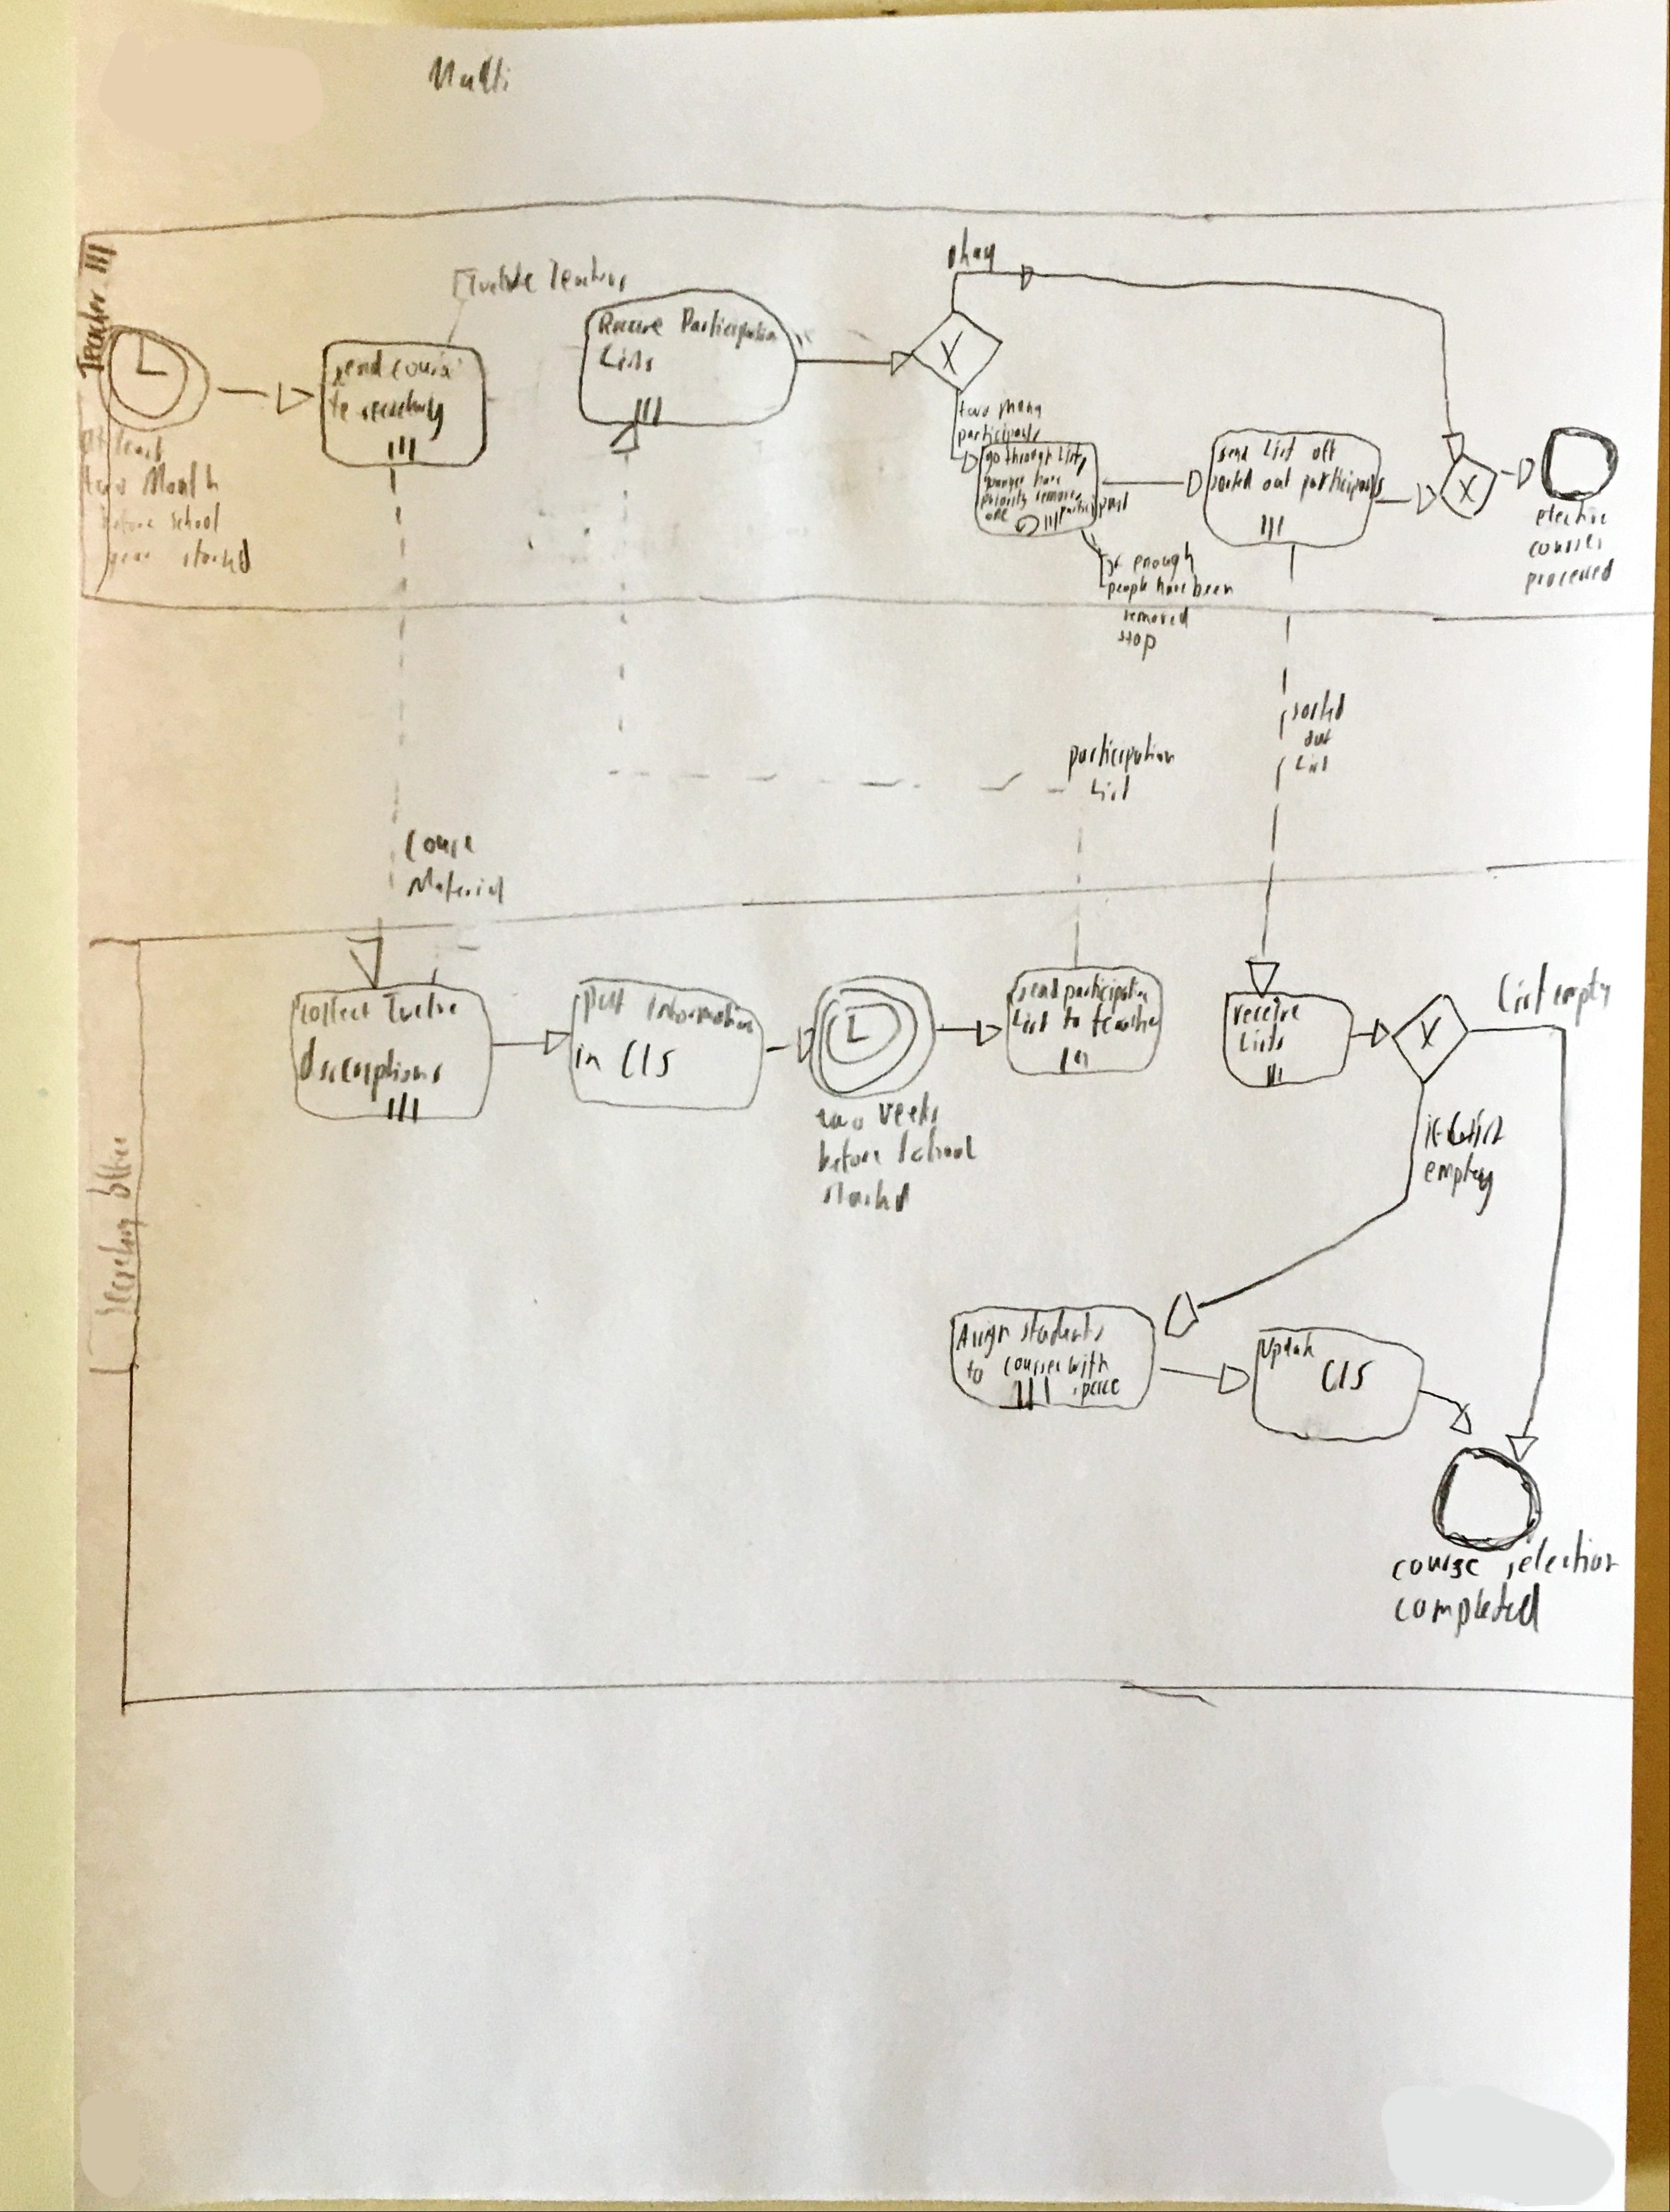Allign: (955, 1323, 1013, 1360)
CIS: (617, 1038, 678, 1081), (1319, 1358, 1374, 1394)
III: (81, 242, 117, 278), (1013, 1377, 1053, 1410), (384, 1091, 420, 1122), (383, 435, 420, 464), (630, 396, 665, 427), (1056, 1045, 1090, 1073), (1256, 513, 1285, 542), (1262, 1062, 1285, 1087), (1042, 513, 1059, 531)
Information: (646, 989, 760, 1022)
List: (1445, 1109, 1505, 1147), (1087, 772, 1131, 804), (1009, 1008, 1051, 1037), (1260, 436, 1300, 462), (1291, 753, 1330, 775)
List,: (1056, 444, 1089, 477)
Lists: (597, 342, 656, 373), (1236, 1023, 1287, 1054)
Material: (405, 865, 507, 905)
Month: (140, 461, 220, 499)
Multi: (425, 53, 512, 95)
Participations: (680, 303, 782, 348)
Receive: (596, 312, 669, 337)
School: (894, 1124, 979, 1165), (165, 503, 220, 533)
Secretary: (90, 1215, 145, 1317)
Teacher: (71, 290, 110, 378)
Teachers: (544, 258, 630, 292)
Twelve: (459, 261, 538, 295)
Update: (1258, 1331, 1315, 1369)
attach: (82, 422, 170, 453)
been: (1190, 573, 1236, 599)
before: (815, 1136, 885, 1175), (96, 506, 155, 535)
but: (1301, 726, 1334, 749)
collect: (297, 994, 373, 1027)
completed: (1392, 1581, 1543, 1639)
course: (1389, 1550, 1482, 1583), (402, 832, 476, 864), (390, 357, 455, 383)
courses: (1525, 533, 1606, 561), (1000, 1356, 1063, 1379)
descriptions: (295, 1035, 443, 1103)
elective: (1532, 500, 1609, 528)
empty: (1421, 1151, 1496, 1218), (1551, 966, 1612, 1027)
enough: (1130, 540, 1196, 578)
go: (981, 450, 1003, 475)
have: (1154, 574, 1189, 597), (1030, 467, 1063, 488)
if: (1421, 1113, 1446, 1151)
in: (571, 1041, 604, 1073)
list: (1494, 960, 1548, 1016)
many: (996, 397, 1044, 422)
off: (1309, 437, 1340, 465)
office: (84, 1131, 134, 1201)
okay: (942, 227, 999, 270)
one: (982, 508, 1009, 523)
out: (1260, 466, 1293, 492)
participants: (1296, 466, 1387, 502), (956, 423, 1042, 444)
participated: (1054, 492, 1137, 525)
participation: (1065, 732, 1178, 782), (1059, 975, 1150, 1011)
people: (1105, 575, 1150, 602)
priority: (977, 491, 1029, 511)
processed: (1517, 568, 1616, 596)
put: (580, 984, 628, 1025)
receive: (1230, 997, 1303, 1026)
remark,: (1032, 489, 1085, 504)
removed: (1118, 606, 1190, 629)
secretary: (358, 388, 446, 441)
selection: (1501, 1531, 1619, 1582)
send: (330, 348, 385, 389), (1014, 976, 1060, 1005), (1215, 444, 1250, 466)
sorted: (1288, 689, 1347, 723), (1209, 468, 1255, 494)
space: (1068, 1377, 1121, 1404)
started: (820, 1174, 914, 1208), (181, 538, 254, 575)
stop: (1116, 628, 1157, 660)
students: (1017, 1310, 1107, 1348)
teacher: (1089, 1002, 1160, 1039)
through: (1001, 448, 1056, 467)
to: (327, 392, 351, 424), (1060, 1004, 1082, 1031), (963, 1359, 984, 1385)
too: (81, 462, 130, 495), (954, 401, 992, 419)
twelve: (378, 992, 460, 1027)
two: (811, 1107, 866, 1133)
weeks: (875, 1090, 943, 1128)
with: (1065, 1349, 1112, 1381)
year: (103, 549, 153, 580)
younger: (982, 475, 1027, 492)
